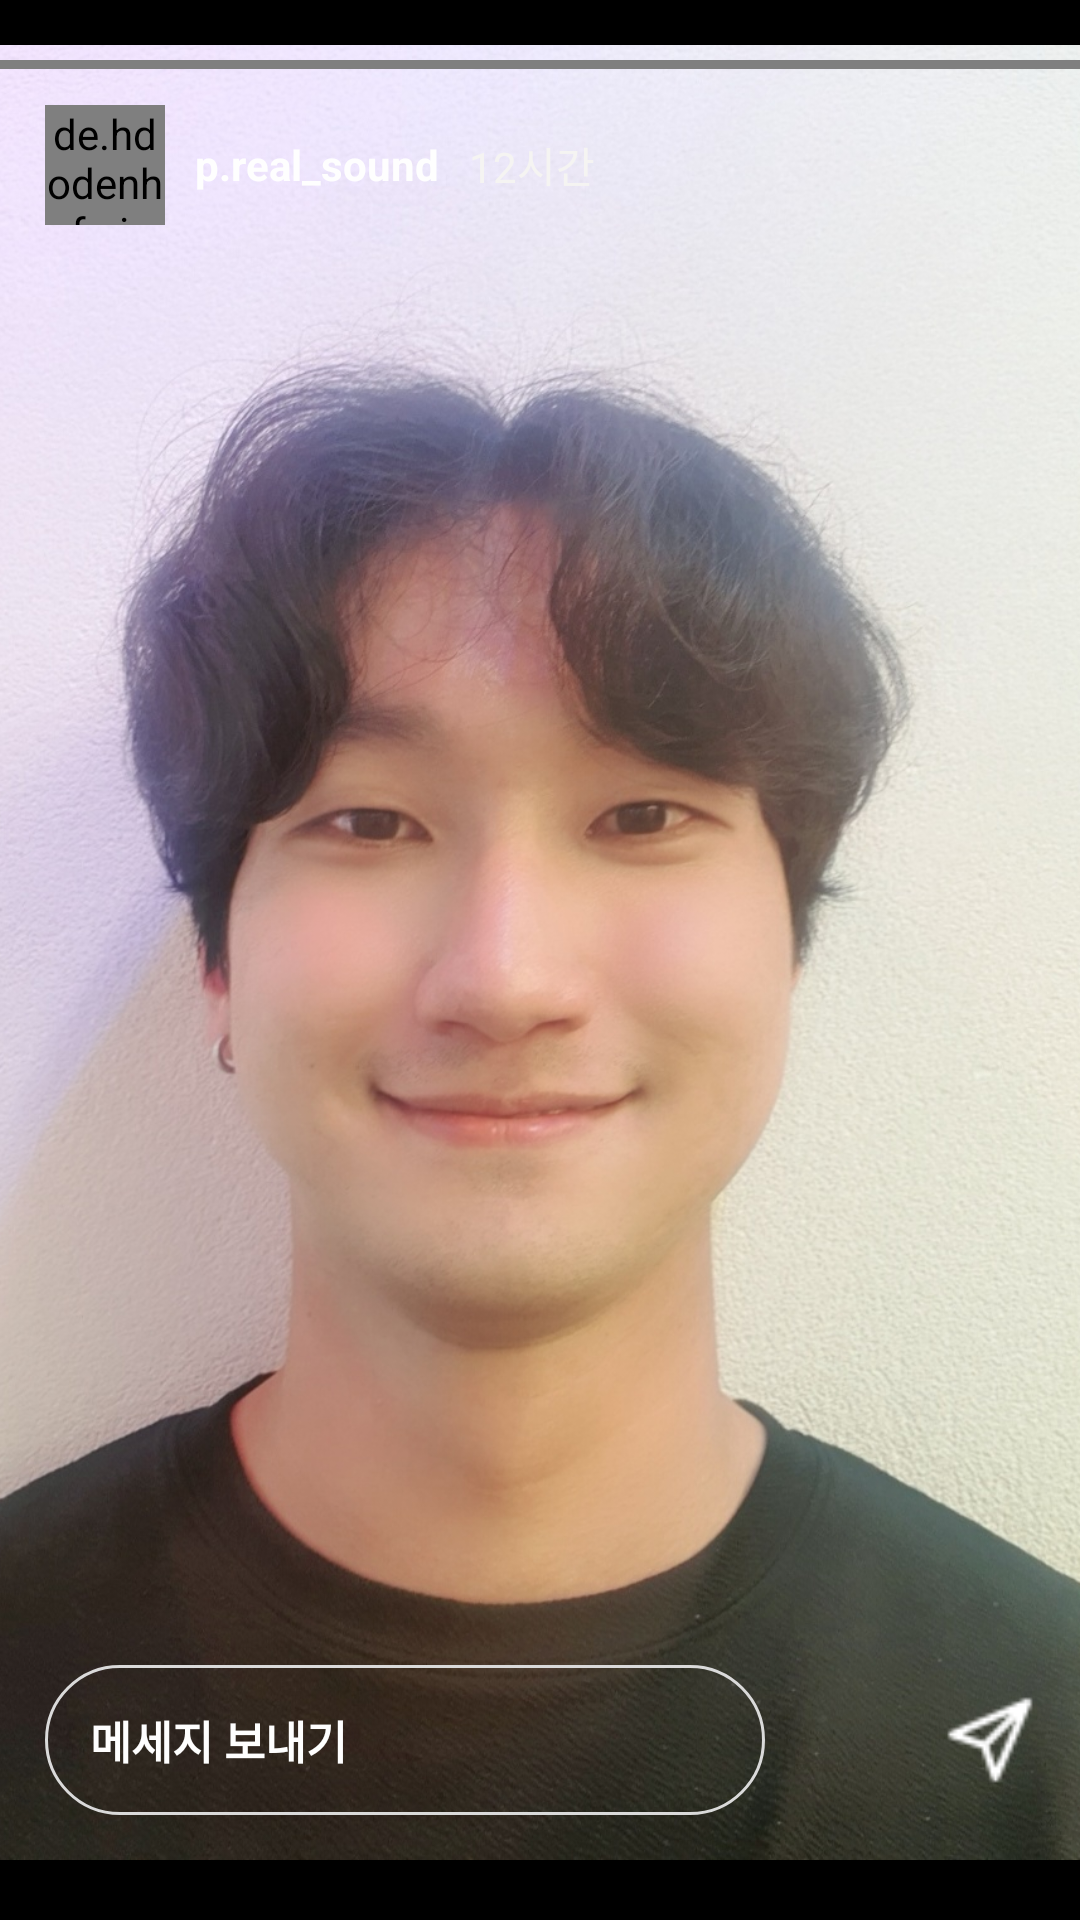

Icons on this 1080px×1920px Android screen, each with the point to tap as point (x, y):
story send: point (990, 1739)
